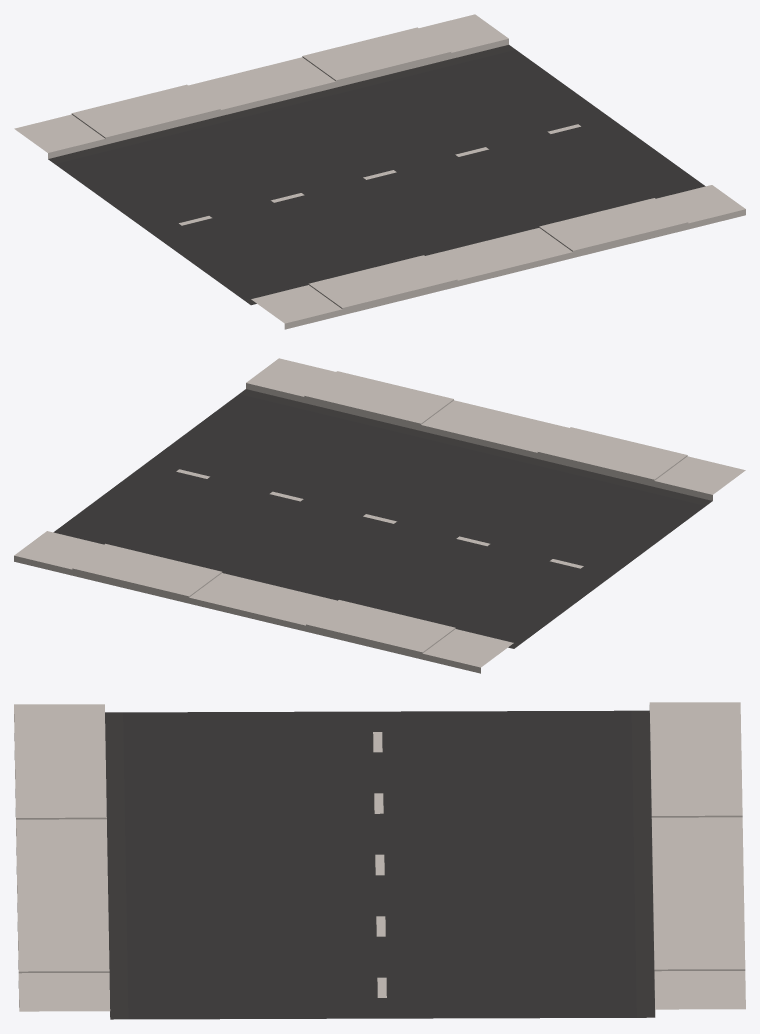
File: street_straight.071_lev1.glb
3 views of the same model, one above another, from view 1: azimuth 30°, elevation 25°; view 2: azimuth 150°, elevation 25°; view 3: azimuth 270°, elevation 25° (orthographic). The views are drawn at different scales.
Visible parts, largest first — view 1: street_straight.071_lev1; view 2: street_straight.071_lev1; view 3: street_straight.071_lev1.
Part boxes in pixels (<box>): street_straight.071_lev1: <box>14,14,745,329</box>; street_straight.071_lev1: <box>14,358,745,673</box>; street_straight.071_lev1: <box>14,702,745,1019</box>.
Bounding box in the file's own units: 8.06 × 0.12 × 8.06.
1 material, 1 textured.
